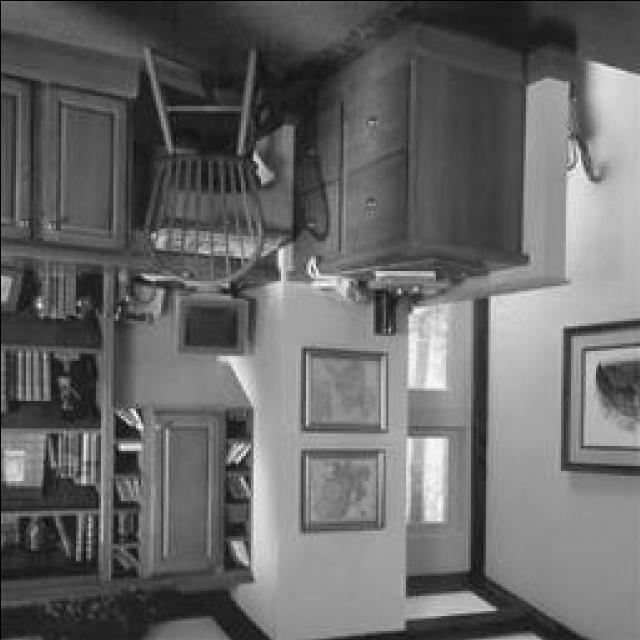chair: (126, 32, 266, 288)
